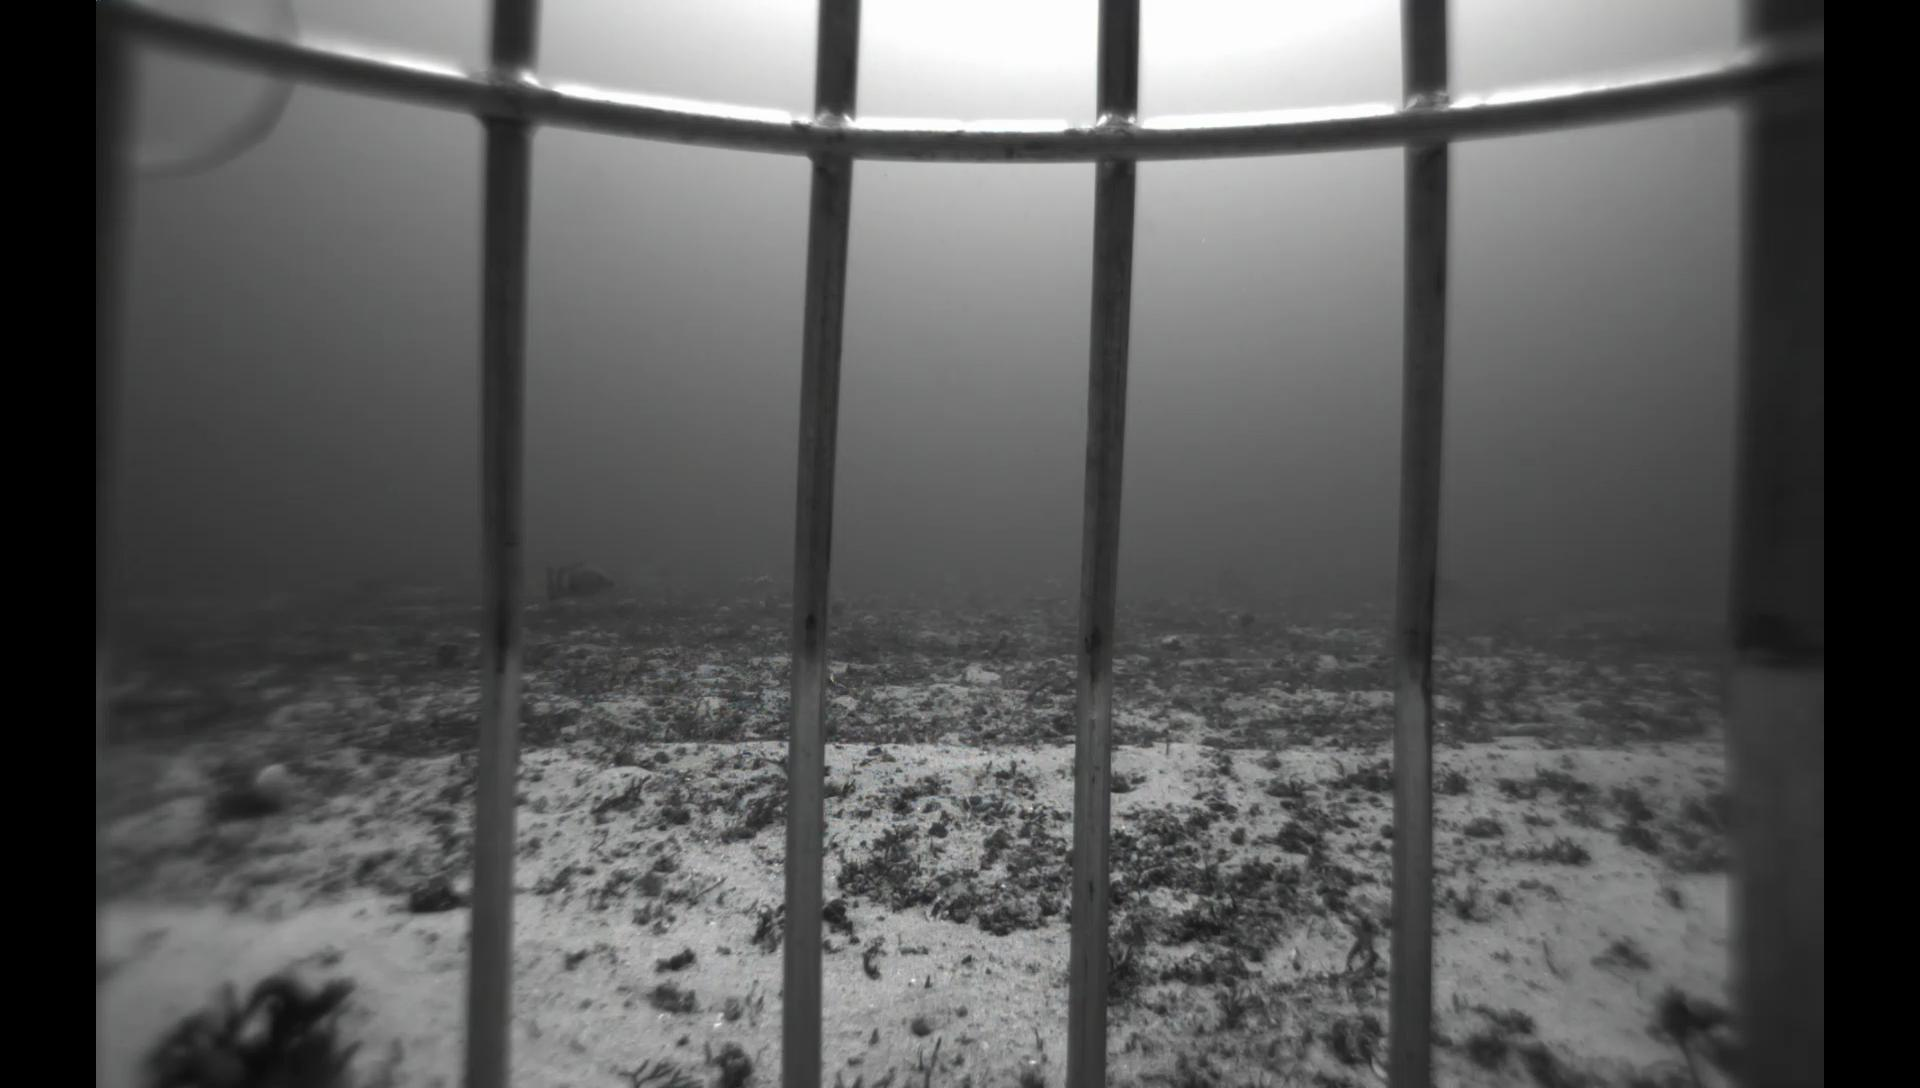EPINEPHELUSMORIO-170021211: (531, 553, 628, 604)
PRISTIGENYSALTA-170050401: (597, 593, 654, 628), (824, 597, 855, 619)
